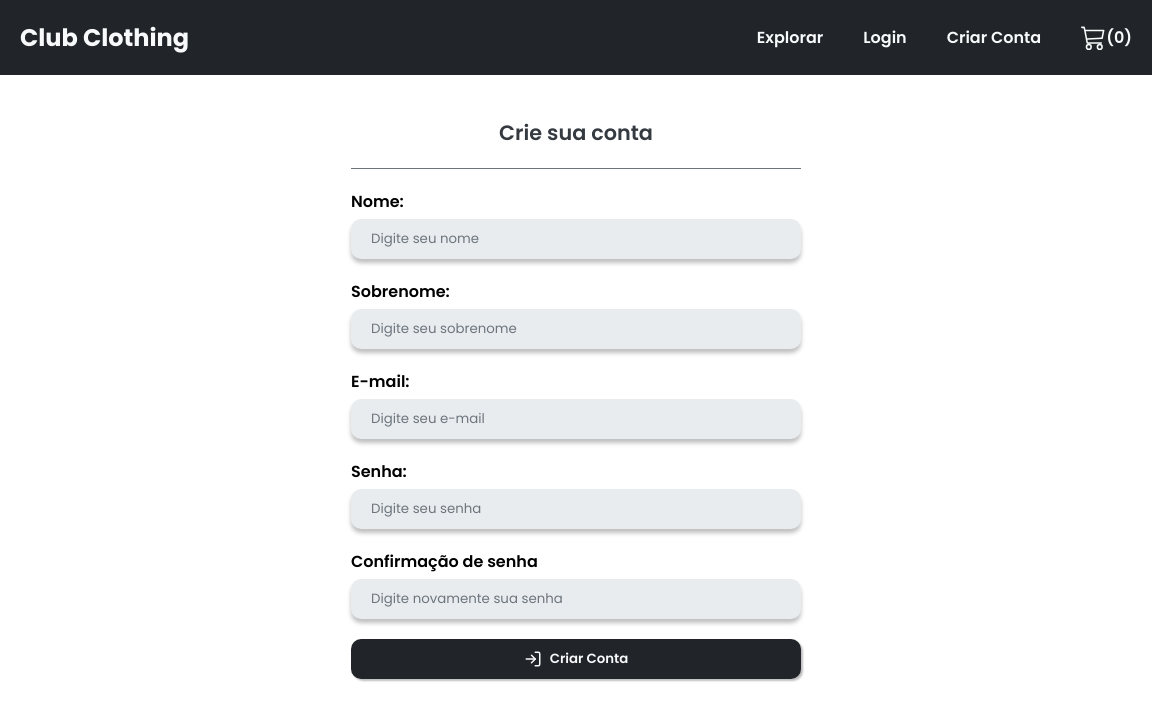
Test: Sign Up › should show errors when filling an invalid email
This screenshot has width=1152, height=720.
Type "invalid_email" into the field with placeholder "Digite seu e-mail" at (576, 418), box x1=351 y1=398 x2=801 y2=438
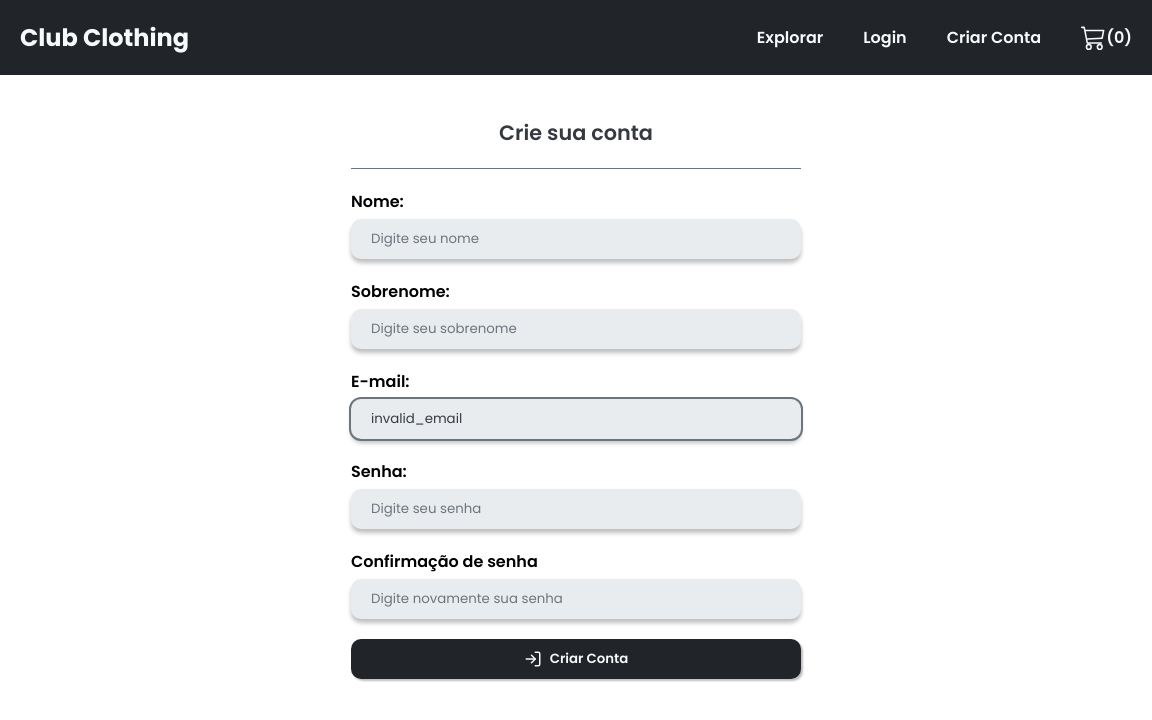
Click the button "Criar Conta" at (576, 658), box x1=351 y1=638 x2=801 y2=678
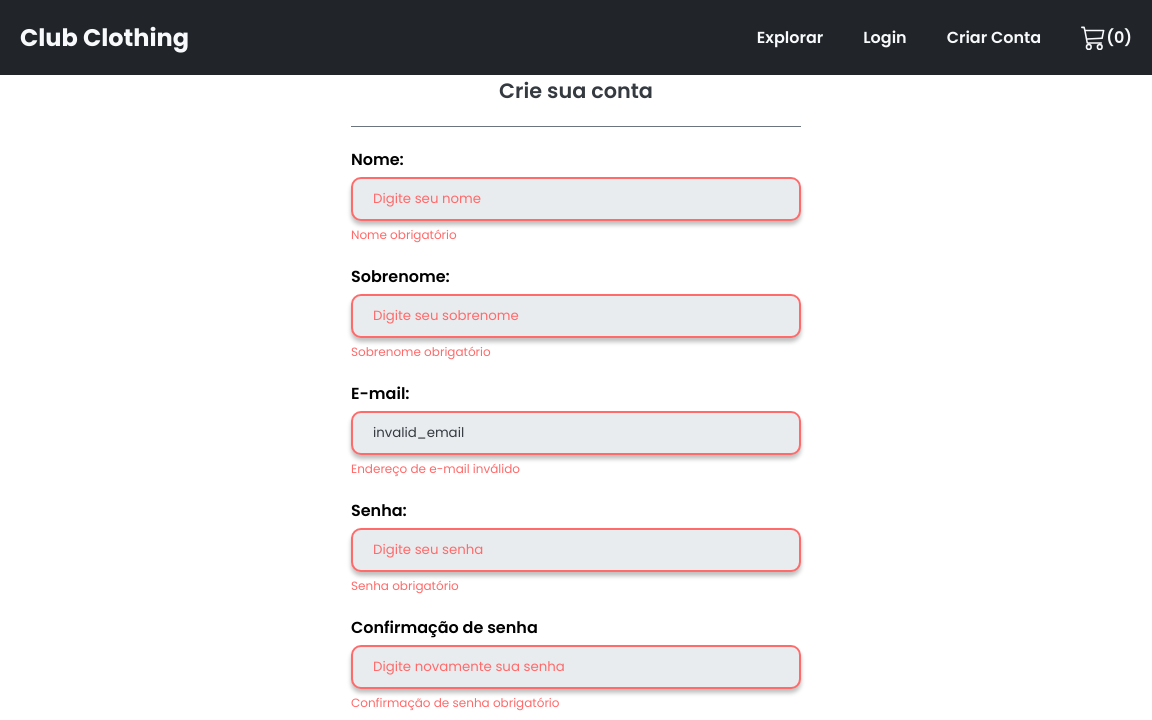
Expected: the text "Endereço de e-mail inválido" is shown, x1=351 y1=460 x2=520 y2=477
